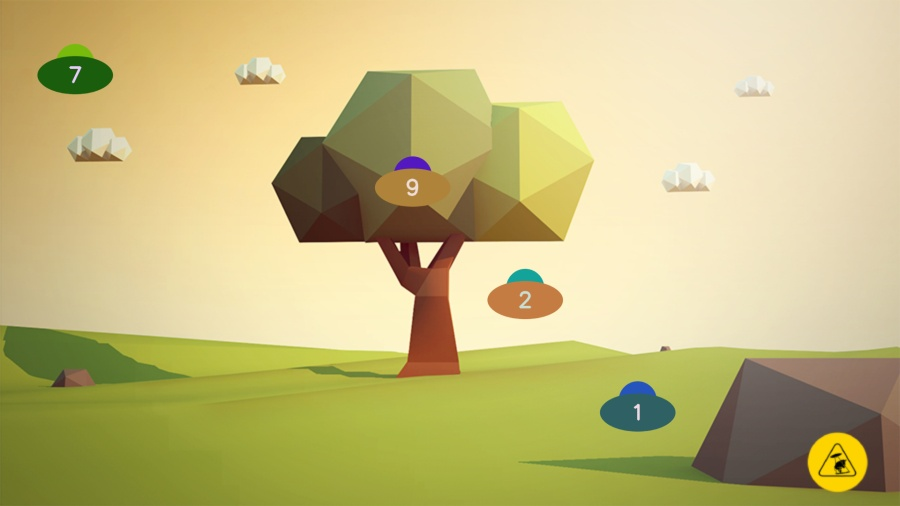ufo: (599, 380, 676, 432), (487, 268, 564, 320), (37, 44, 114, 95), (375, 155, 440, 207)
